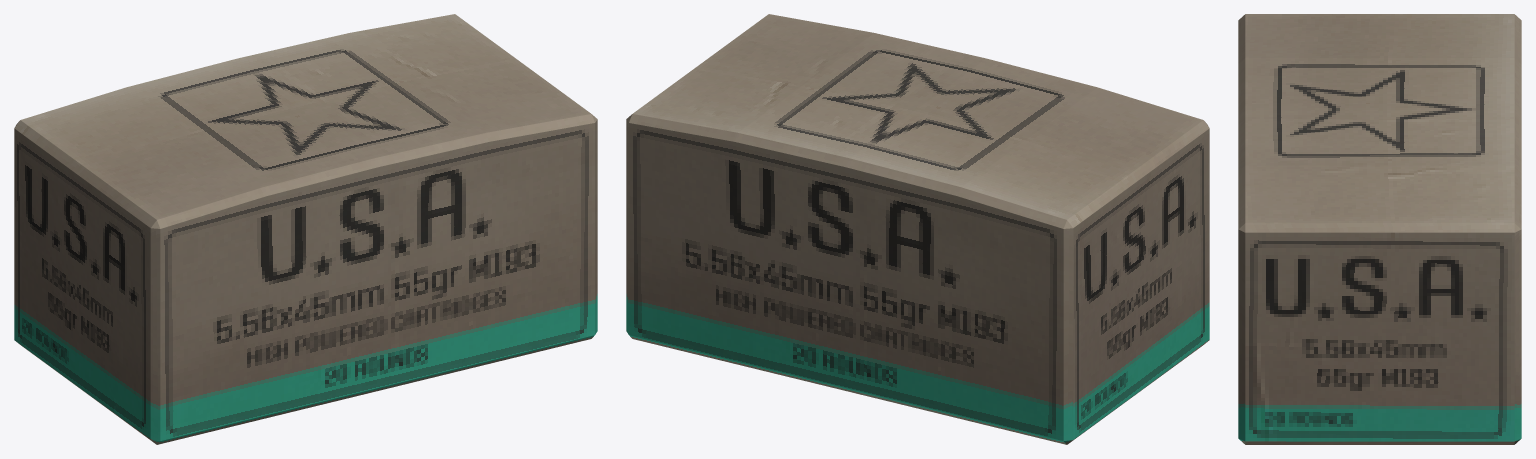
The model's file is rifle.glb.
3 renders of one model, left to right at view 1: azimuth 30°, elevation 25°; view 2: azimuth 150°, elevation 25°; view 3: azimuth 270°, elevation 25°, orthographic.
Visible parts, largest first — view 1: 556x45-box; view 2: 556x45-box; view 3: 556x45-box.
Part boxes in pixels (box(x1,y1,x2,y2)): 556x45-box: box(14, 14, 597, 444); 556x45-box: box(626, 14, 1209, 444); 556x45-box: box(1238, 14, 1521, 444).
Bounding box in the file's own units: 0.3 × 0.1498 × 0.1669.
Materials: 1 (1 with a texture image).
